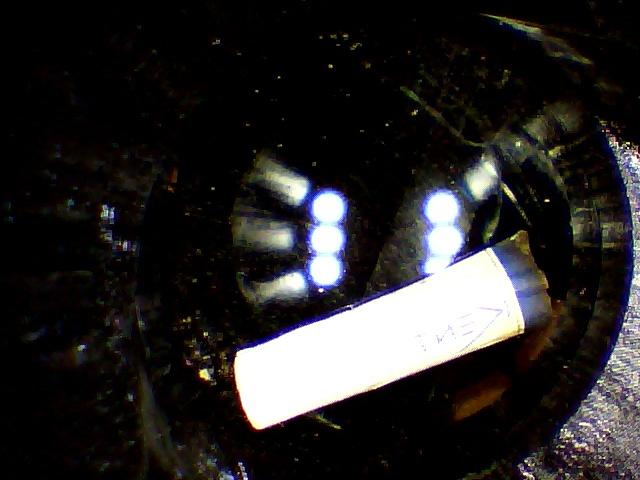megot: (225, 223, 564, 441)
